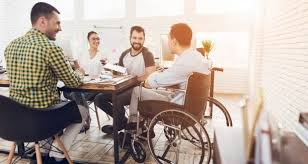wheelchair: (122, 22, 234, 164)
